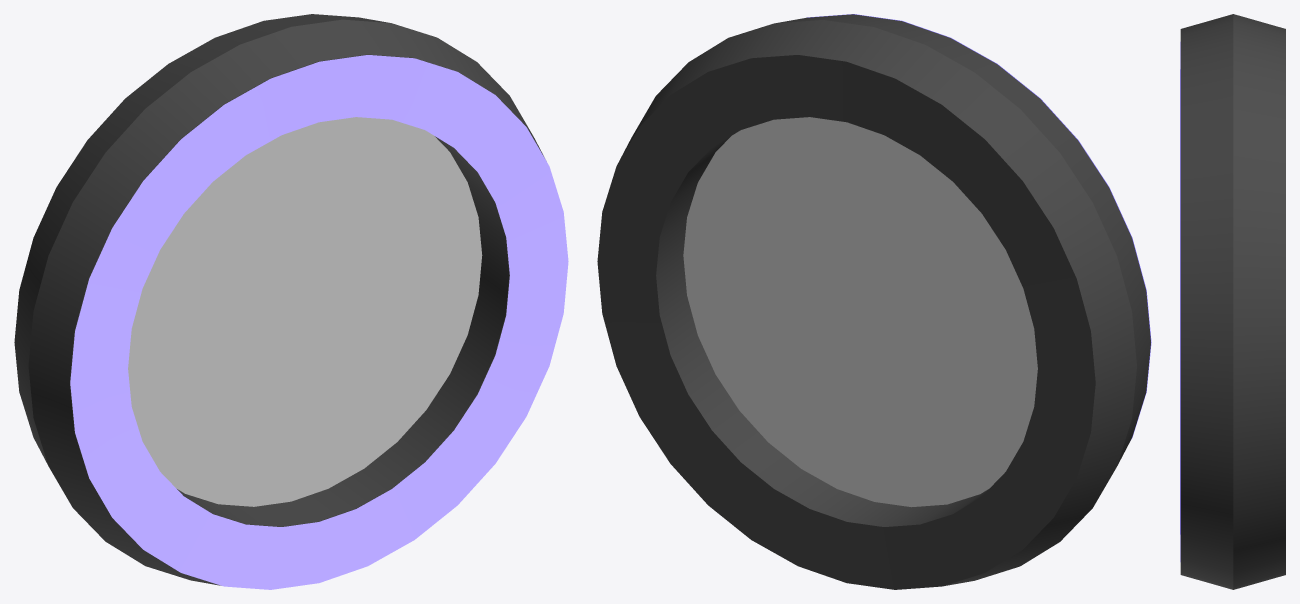
The model's file is HubPortal.fbx.
The picture shows the model from 3 angles, left to right: view 1: azimuth 30°, elevation 25°; view 2: azimuth 150°, elevation 25°; view 3: azimuth 270°, elevation 25°; orthographic projection. The views are drawn at different scales.
Parts seen in each view (by area): view 1: HubPortal_Water, HubPortal_Signs, HubPortal_Frame; view 2: HubPortal_Frame, HubPortal_Water; view 3: HubPortal_Frame, HubPortal_Signs.
Part boxes in pixels (box(x1,y1,x2,y2)): HubPortal_Water: box(128, 117, 482, 506); HubPortal_Signs: box(70, 55, 568, 589); HubPortal_Frame: box(14, 14, 544, 585); HubPortal_Frame: box(597, 14, 1150, 589); HubPortal_Water: box(683, 117, 1037, 507); HubPortal_Frame: box(1180, 14, 1285, 589); HubPortal_Signs: box(1180, 42, 1180, 561).
Size of the model in its own units: 2439 by 2439 by 448.
